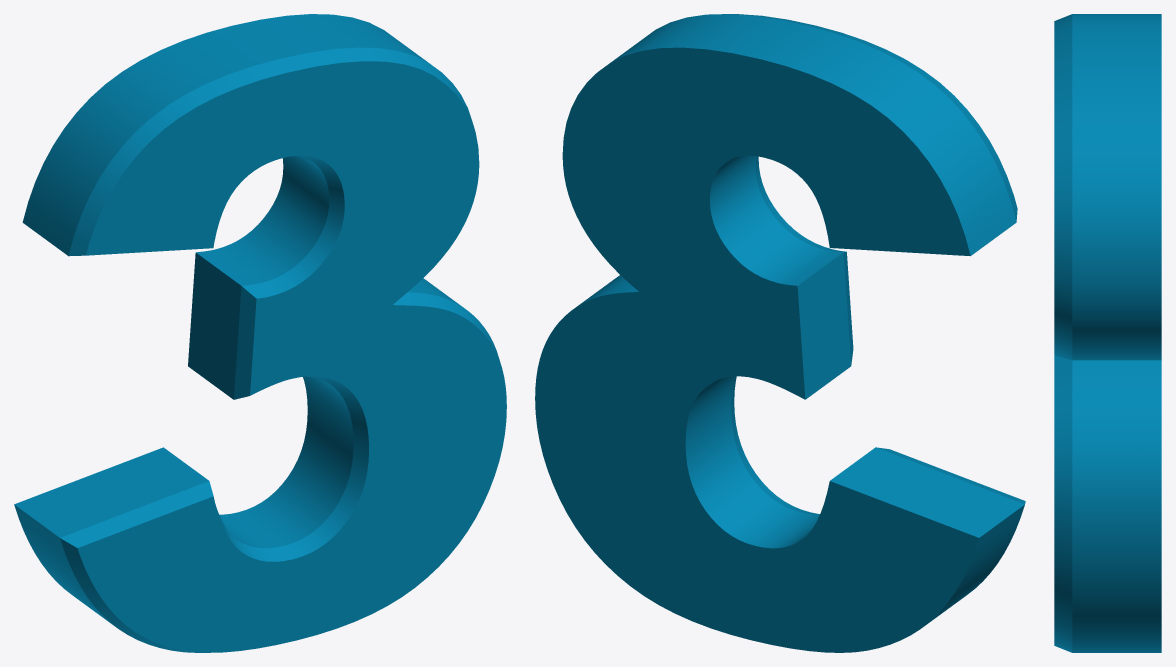
Rendered from number3.FBX.
3 renders of one model, left to right at view 1: azimuth 30°, elevation 25°; view 2: azimuth 150°, elevation 25°; view 3: azimuth 270°, elevation 25°, orthographic. The views are drawn at different scales.
Visible parts, largest first — view 1: 1; view 2: 1; view 3: 1.
Boxes of the visible parts, <box> form: 1: <box>14,14,506,652</box>; 1: <box>535,14,1025,652</box>; 1: <box>1054,14,1161,652</box>.
Bounding box in the file's own units: 1.65 × 0.3543 × 2.07.
